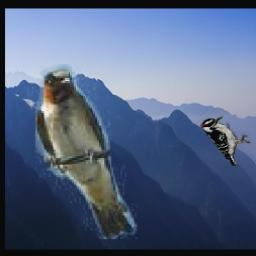Swallow: (36, 64, 139, 239)
Woodpecker: (200, 117, 251, 167)
